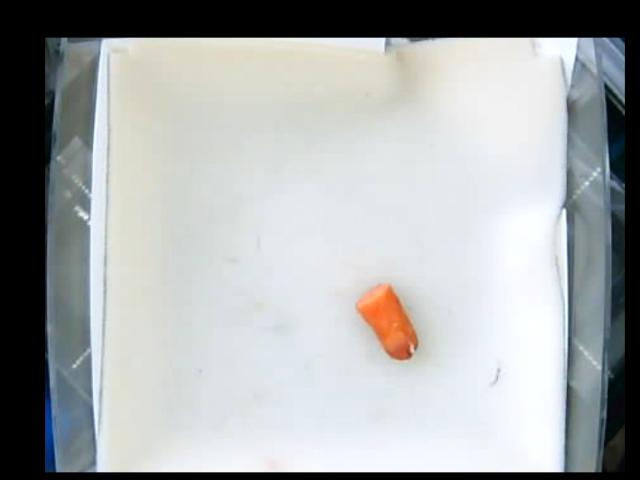Carrot: (354, 286, 417, 363)
